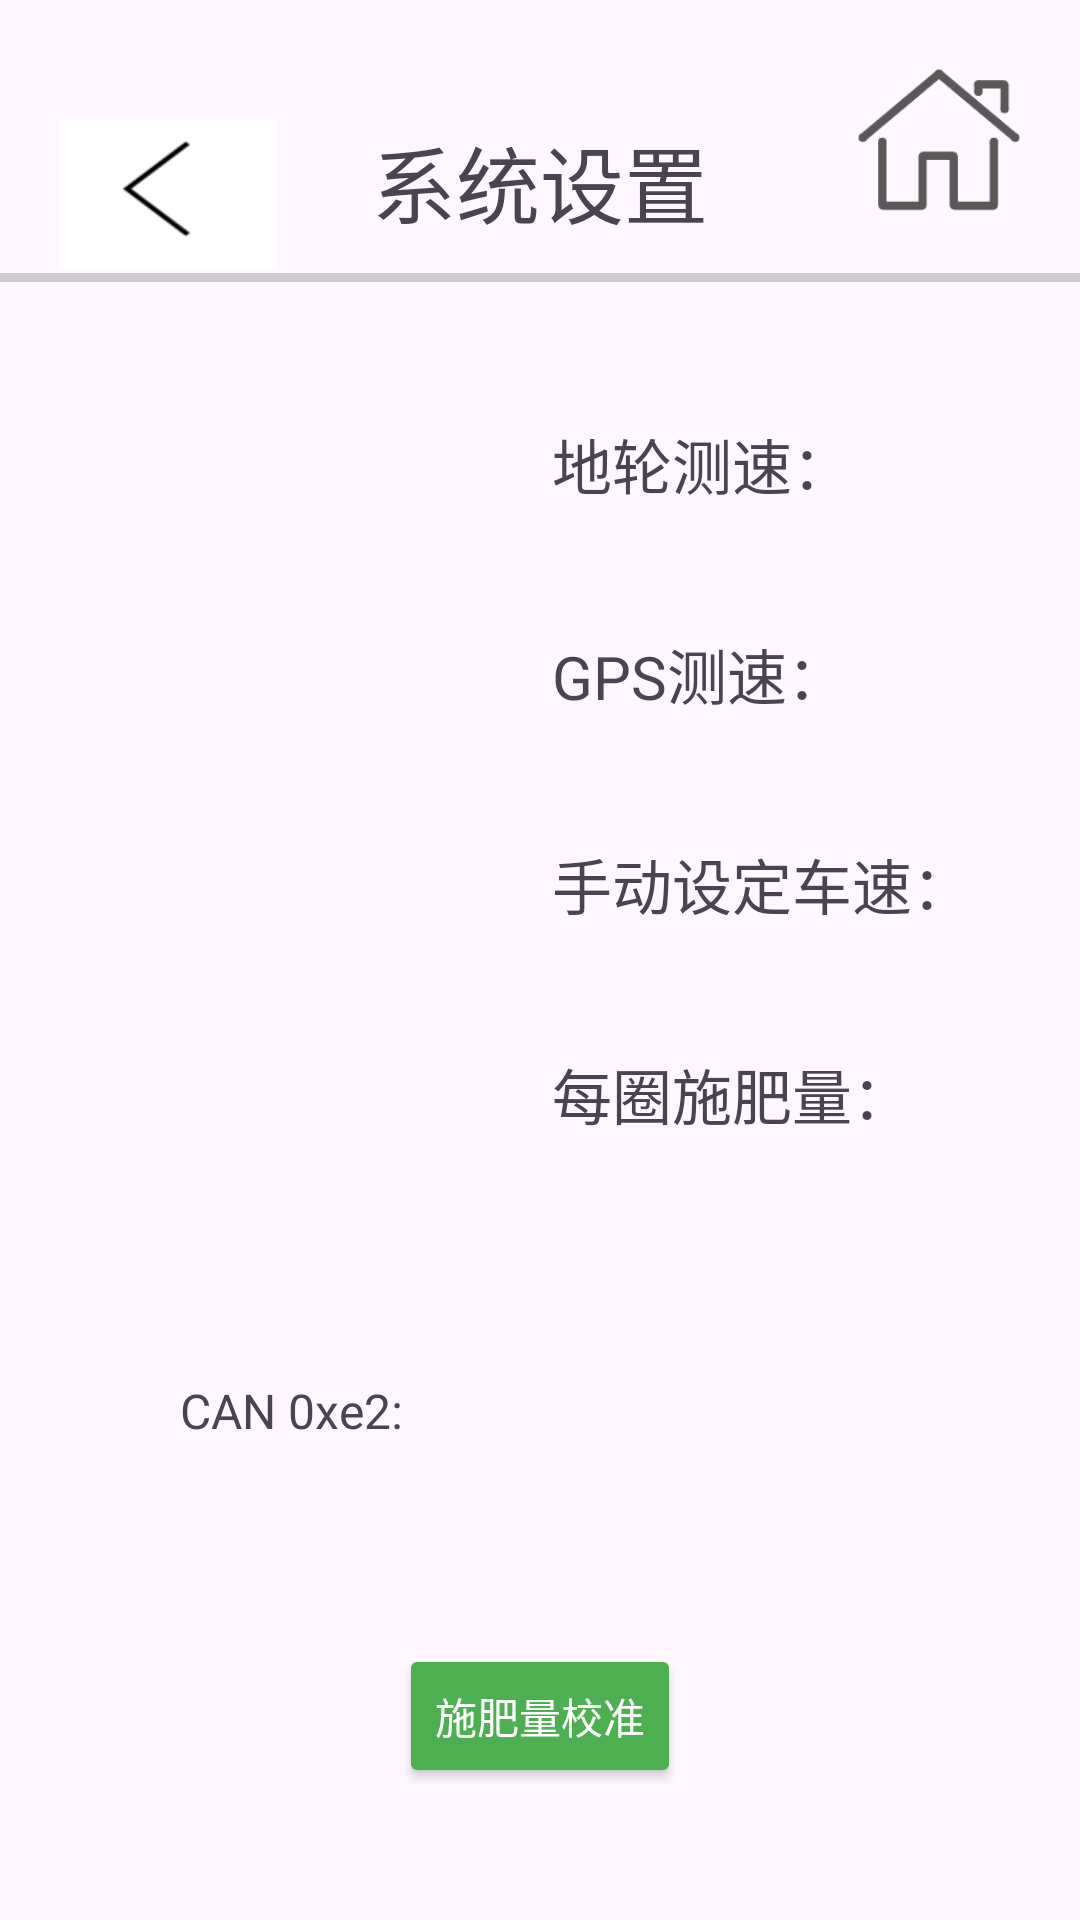

Icon bounding boxes for this 1080 x 1920 phone screenshot, format (x1, y1, x2, y2):
返回: (123, 141, 190, 237)
返回初始界面: (858, 69, 1020, 211)
